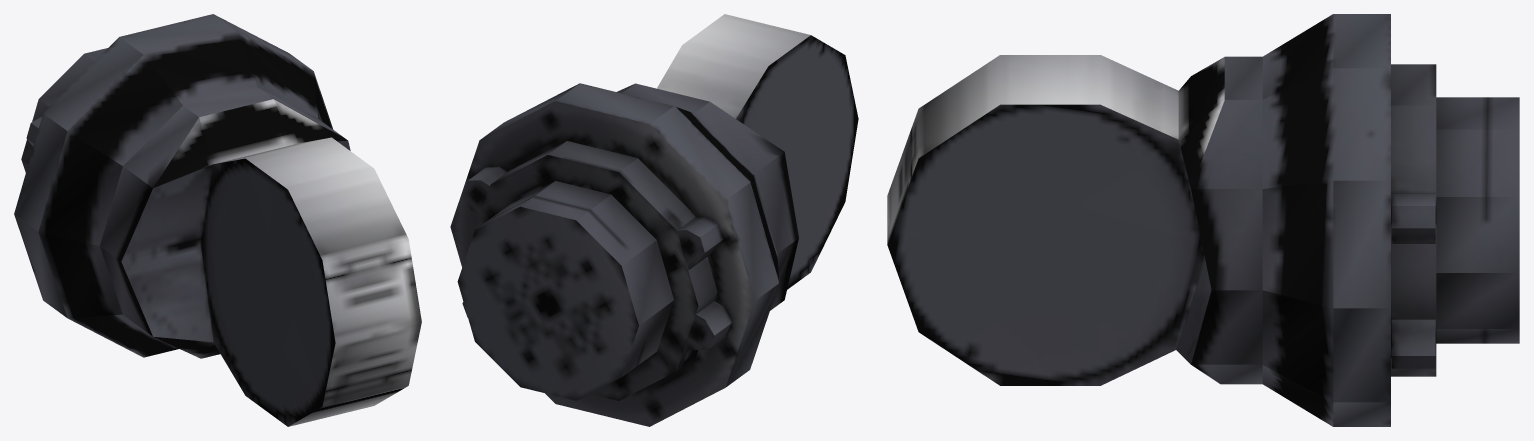
The model's file is l_hand.dae.
3 views of the same model, side by side, from view 1: azimuth 30°, elevation 25°; view 2: azimuth 150°, elevation 25°; view 3: azimuth 270°, elevation 25° (orthographic). The views are drawn at different scales.
Visible parts, largest first — view 1: l_hand; view 2: l_hand; view 3: l_hand.
Boxes of the visible parts, left/top/right/bottom form: l_hand: left=14, top=14, right=421, bottom=426; l_hand: left=450, top=14, right=858, bottom=426; l_hand: left=887, top=14, right=1519, bottom=426.
Size of the model in its own units: 0.1021 by 0.1551 by 0.0971.
1 material, 1 textured.
